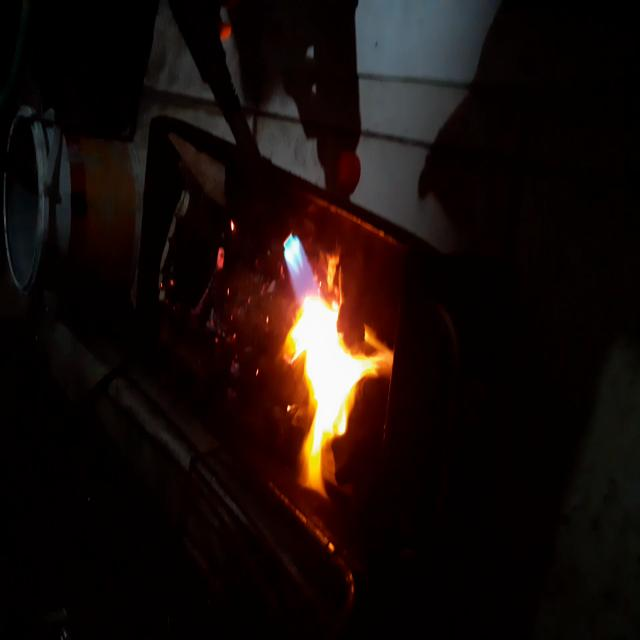Fire: (267, 204, 387, 500)
